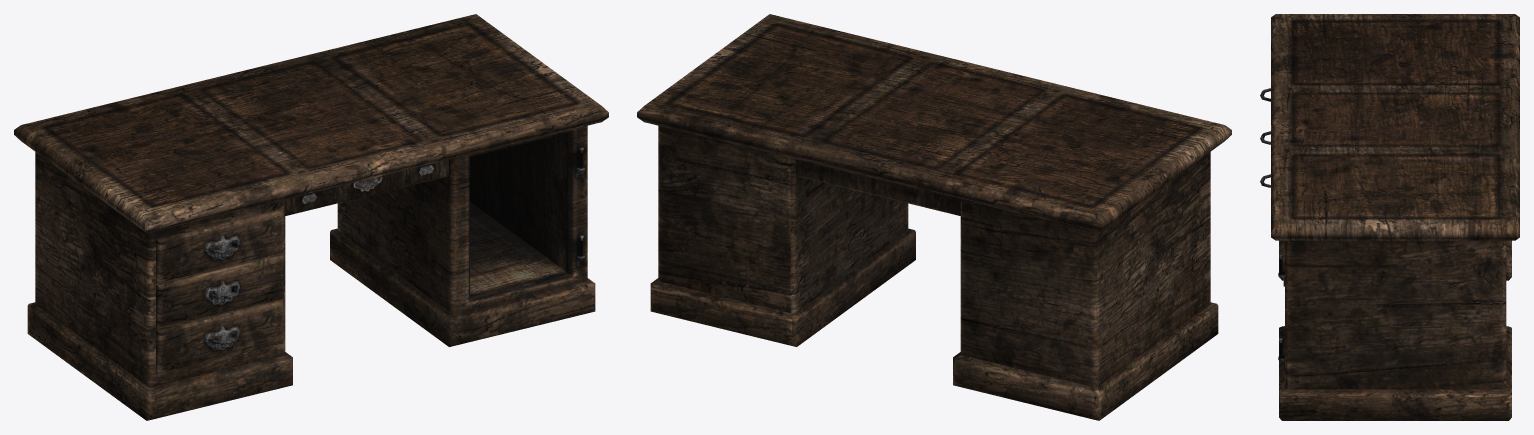
The model's file is work_desk_worn.dae.
3 views of the same model, side by side, from view 1: azimuth 30°, elevation 25°; view 2: azimuth 150°, elevation 25°; view 3: azimuth 270°, elevation 25° (orthographic). The views are drawn at different scales.
Visible parts, largest first — view 1: work_desk_table_mesh, work_desk_drawer01_me, work_desk_drawer03_me, work_desk_drawer02_me; view 2: work_desk_table_mesh; view 3: work_desk_table_mesh.
Part boxes in pixels (x1,y1,x2,y2): work_desk_table_mesh: (14,14,608,420); work_desk_drawer01_me: (156,208,283,283); work_desk_drawer03_me: (156,299,283,373); work_desk_drawer02_me: (156,254,283,328); work_desk_table_mesh: (637,14,1231,420); work_desk_table_mesh: (1271,14,1519,420).
Bounding box in the file's own units: 2.34 × 1 × 1.2.
